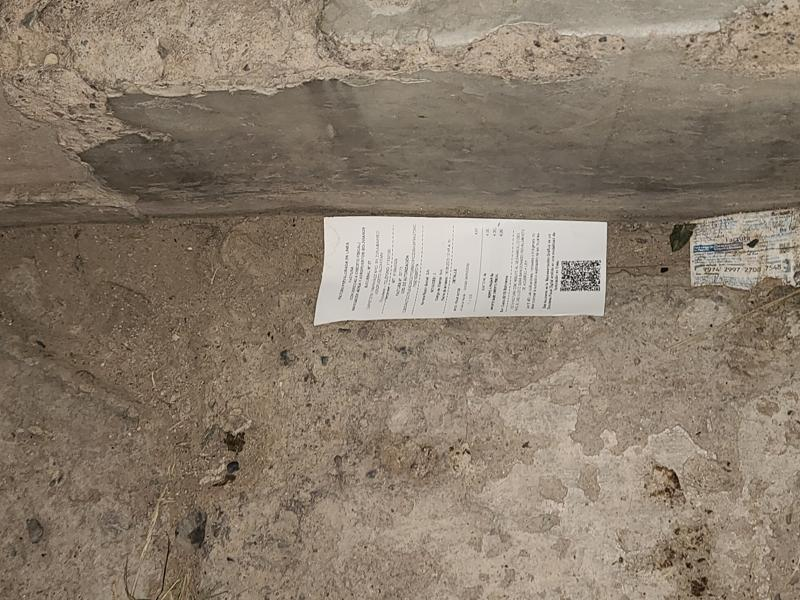papel: (313, 216, 610, 327)
